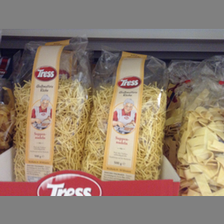pasta: (11, 38, 92, 181), (83, 46, 169, 180), (177, 93, 224, 197)
